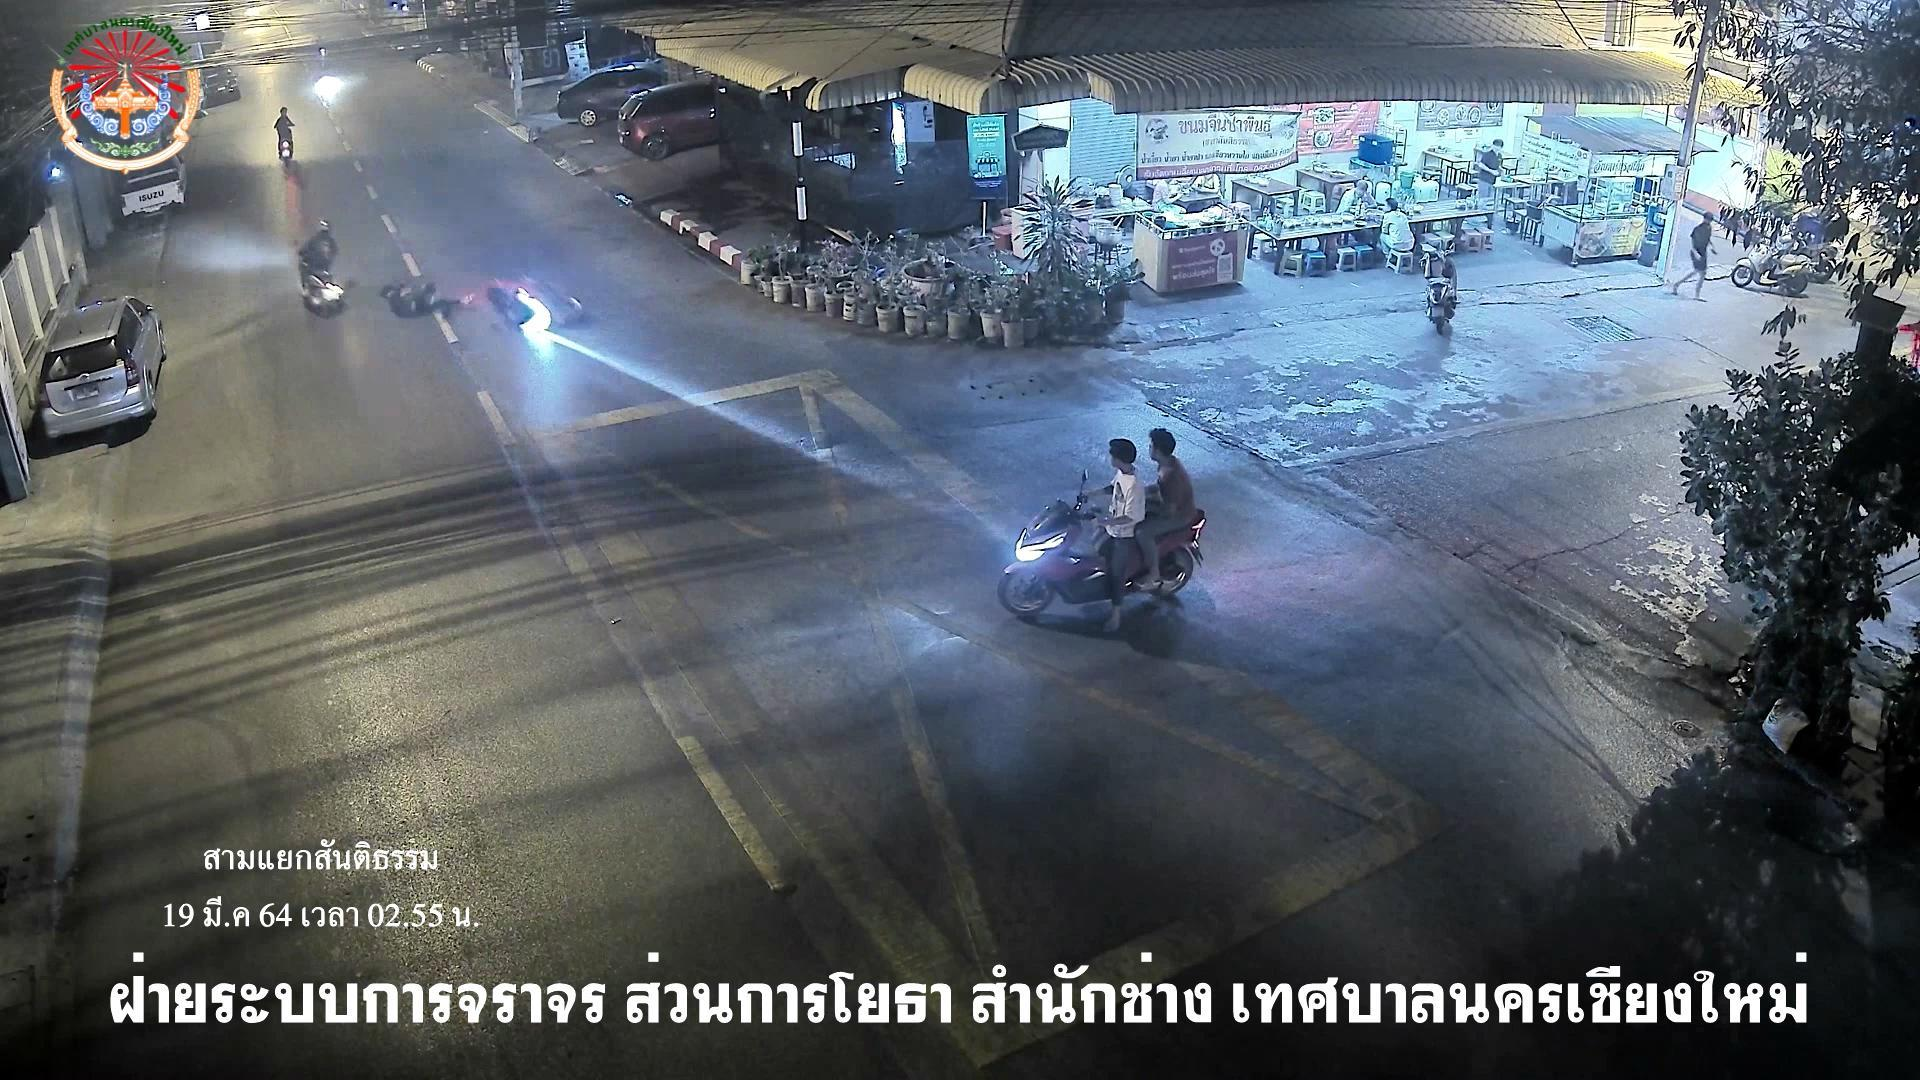accident: (381, 268, 484, 322)
